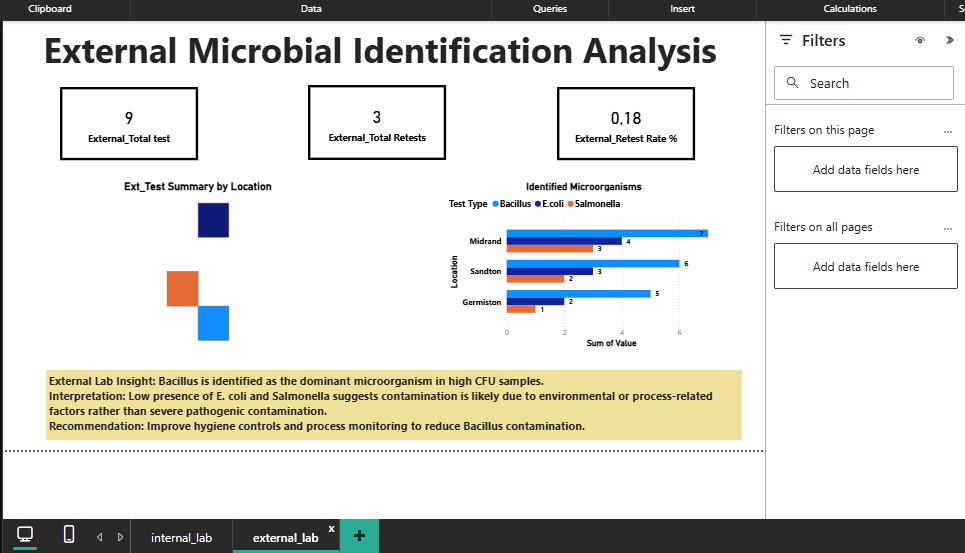

The page's visual inventory and layout, read from the dashboard file:
{"tool":"powerbi","page":{"name":"external_lab","canvas":[1280,720],"ordinal":1},"visuals":[{"type":"shapeMap","fields":{"Category":["externa_lab_results - Sheet1.Location"]},"box":[129.3,267.1,396.4,287.2],"z":0},{"type":"card","fields":{"Values":["DateTable.External_Total test"]},"box":[95.7,110.9,231.8,122.6],"z":1000},{"type":"card","fields":{"Values":["DateTable.External_Total Retests"]},"box":[512.3,107.5,231.8,126],"z":2000},{"type":"card","fields":{"Values":["DateTable.External_Retest Rate %"]},"box":[930.6,110.9,231.8,122.6],"z":3000},{"type":"clusteredBarChart","title":"Identified Microorganisms","fields":{"Category":["externa_lab_results - Sheet1.Location"],"Series":["externa_lab_results - Sheet1.Test Type"],"Y":["Sum(externa_lab_results - Sheet1.Value)"]},"box":[744.1,267.1,463.6,287.2],"z":4000},{"type":"textbox","box":[25.2,3.4,1216.2,90.7],"z":5000},{"type":"textbox","box":[72.2,586.2,1169.1,117.6],"z":6000}]}

Visuals, with their boxes on the page's 1280x720 design canvas (x1, y1, x2, y2). These are canvas units, not pixel positions in the 965x553 screenshot, which may show the page scaled, cropped or inside an application window:
shapeMap - externa_lab_results - Sheet1.Location: x1=129, y1=267, x2=526, y2=554
card - DateTable.External_Total test: x1=96, y1=111, x2=328, y2=234
card - DateTable.External_Total Retests: x1=512, y1=108, x2=744, y2=234
card - DateTable.External_Retest Rate %: x1=931, y1=111, x2=1162, y2=234
"Identified Microorganisms" clusteredBarChart: x1=744, y1=267, x2=1208, y2=554
textbox: x1=25, y1=3, x2=1241, y2=94
textbox: x1=72, y1=586, x2=1241, y2=704
